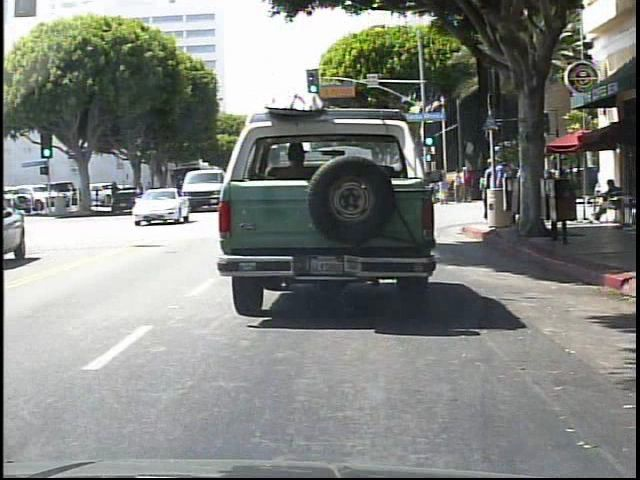person: (591, 175, 627, 223), (493, 158, 511, 223), (480, 159, 497, 221), (492, 162, 508, 220), (519, 164, 536, 217), (535, 163, 549, 206), (464, 164, 476, 204), (455, 169, 466, 204), (439, 171, 450, 206), (429, 177, 439, 207)
